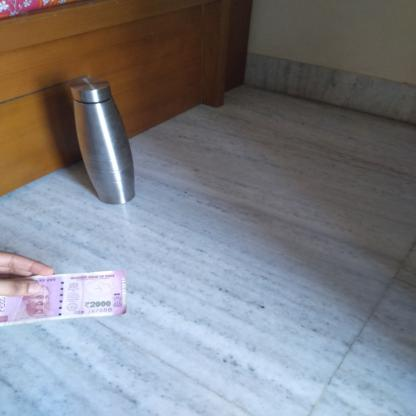New2000Front: (1, 272, 129, 322)
